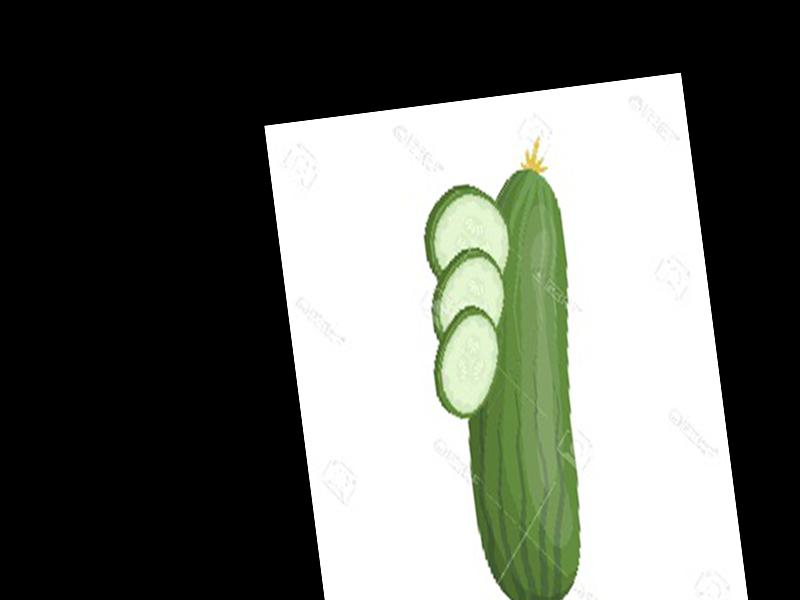Cucumber: (429, 139, 610, 600)
